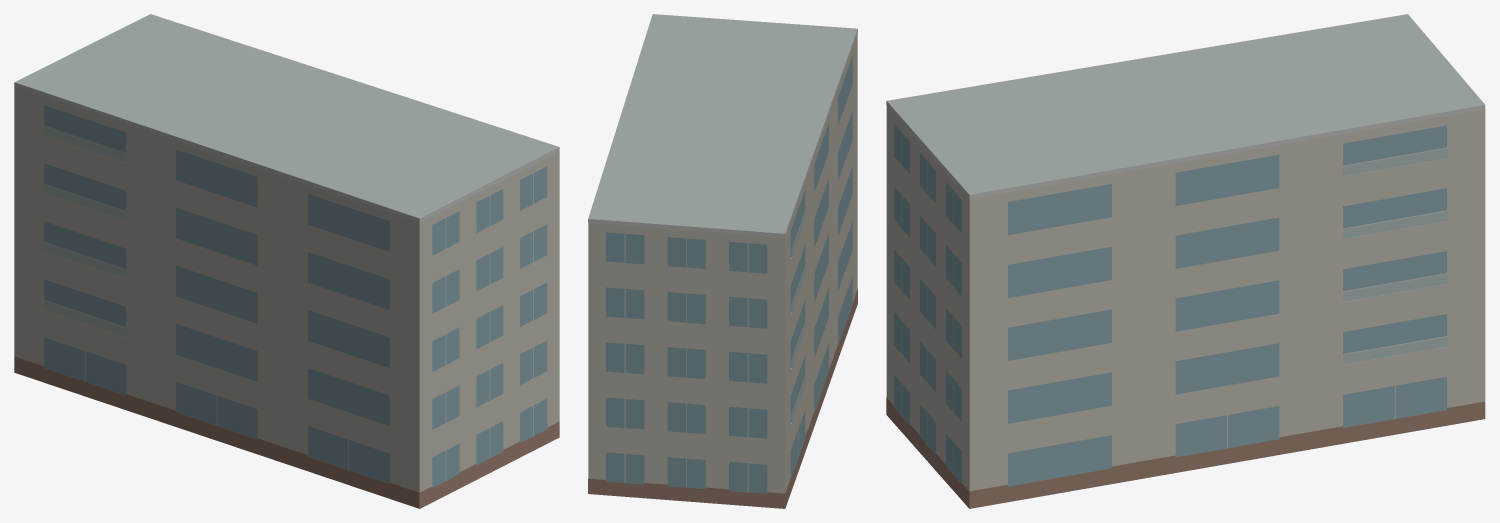
Rendered from survey-upis-32829362.glb.
3 renders of one model, left to right at view 1: azimuth 30°, elevation 25°; view 2: azimuth 150°, elevation 25°; view 3: azimuth 270°, elevation 25°, orthographic. The views are drawn at different scales.
Visible parts, largest first — view 1: survey-upis-32829362.tmp; view 2: survey-upis-32829362.tmp; view 3: survey-upis-32829362.tmp.
Part boxes in pixels (x1,y1,x2,y2): survey-upis-32829362.tmp: (14,14,559,508); survey-upis-32829362.tmp: (588,14,857,508); survey-upis-32829362.tmp: (886,14,1485,508).
Bounding box in the file's own units: 21 × 17 × 29.39.
